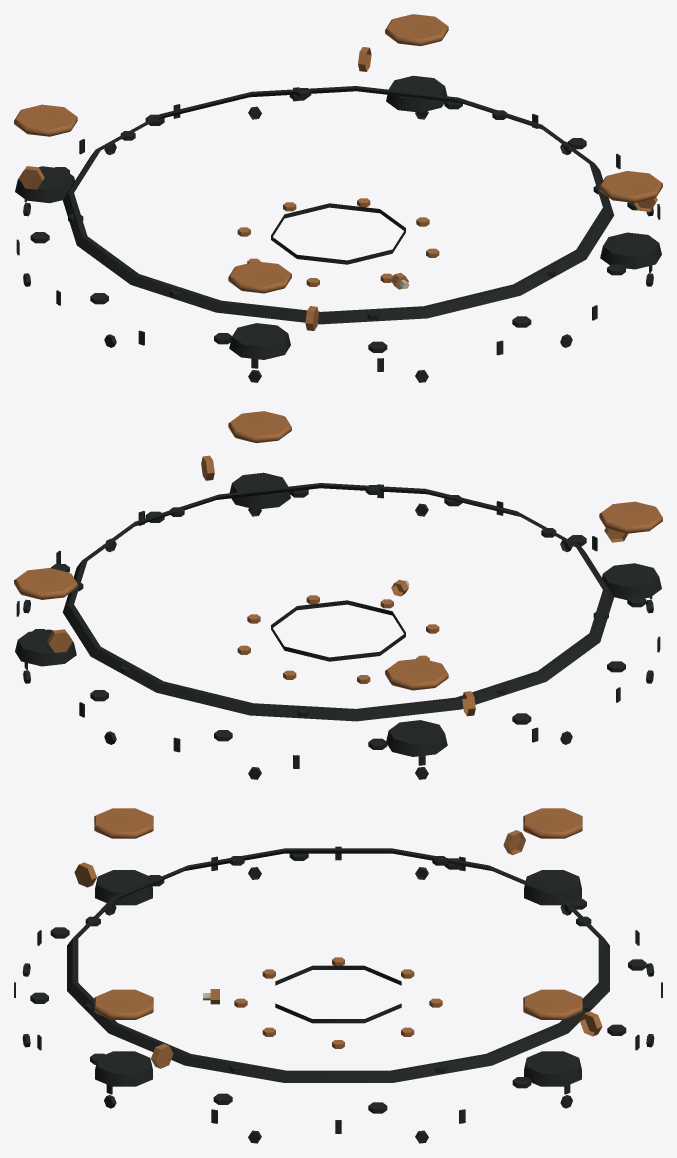
The model's file is geyser_launcher_detail1.glb.
3 renders of one model, top to bottom at view 1: azimuth 30°, elevation 25°; view 2: azimuth 150°, elevation 25°; view 3: azimuth 270°, elevation 25°, orthographic.
Parts seen in each view (by area): view 1: Detail1; view 2: Detail1; view 3: Detail1.
Boxes of the visible parts, left/top/right/bottom form: Detail1: left=14, top=14, right=662, bottom=382; Detail1: left=14, top=411, right=662, bottom=779; Detail1: left=14, top=808, right=662, bottom=1143.
Size of the model in its own units: 6.85 by 1.16 by 6.85.
